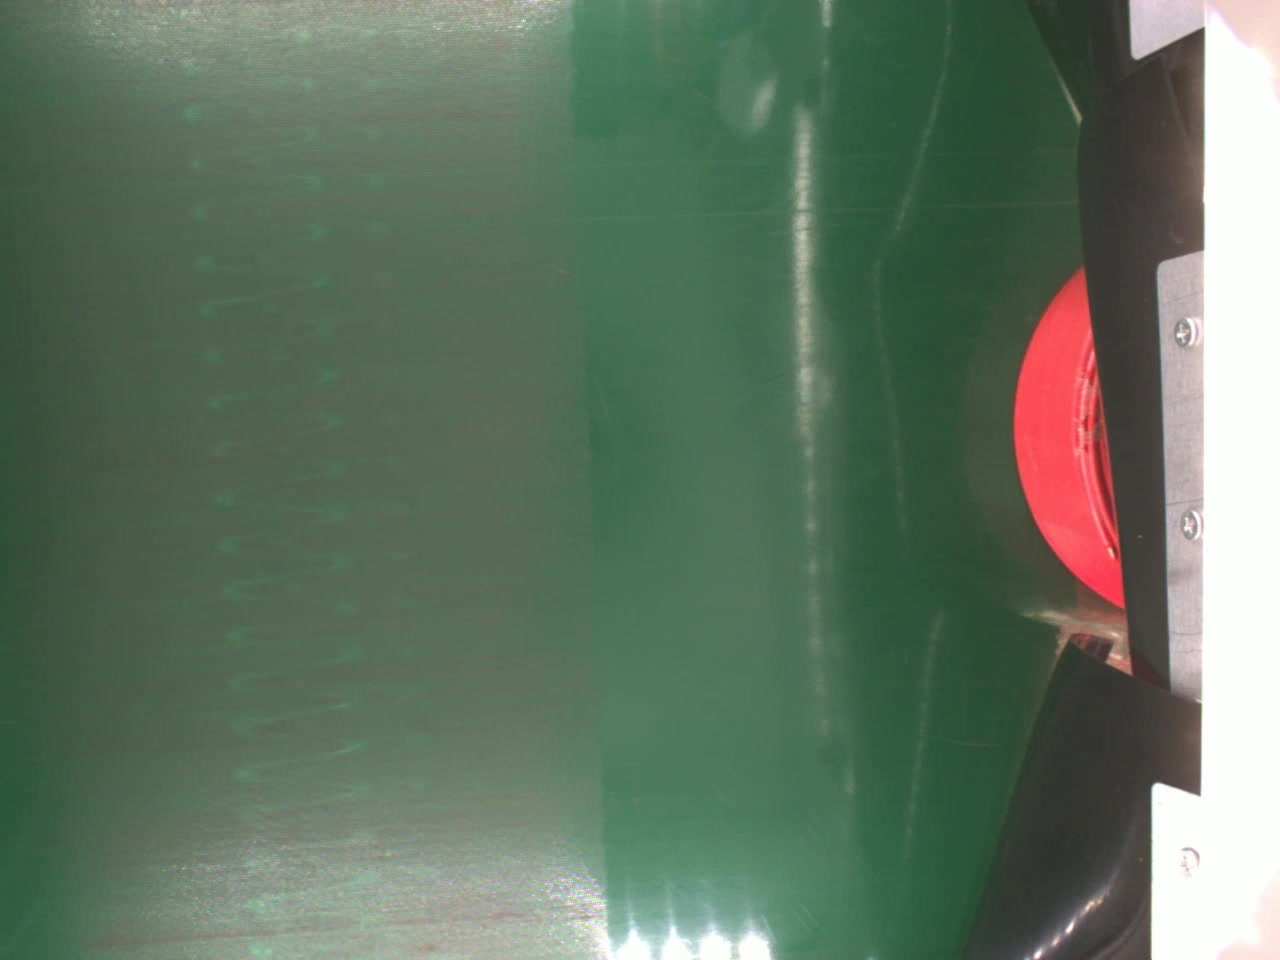red: (1010, 261, 1130, 615)
